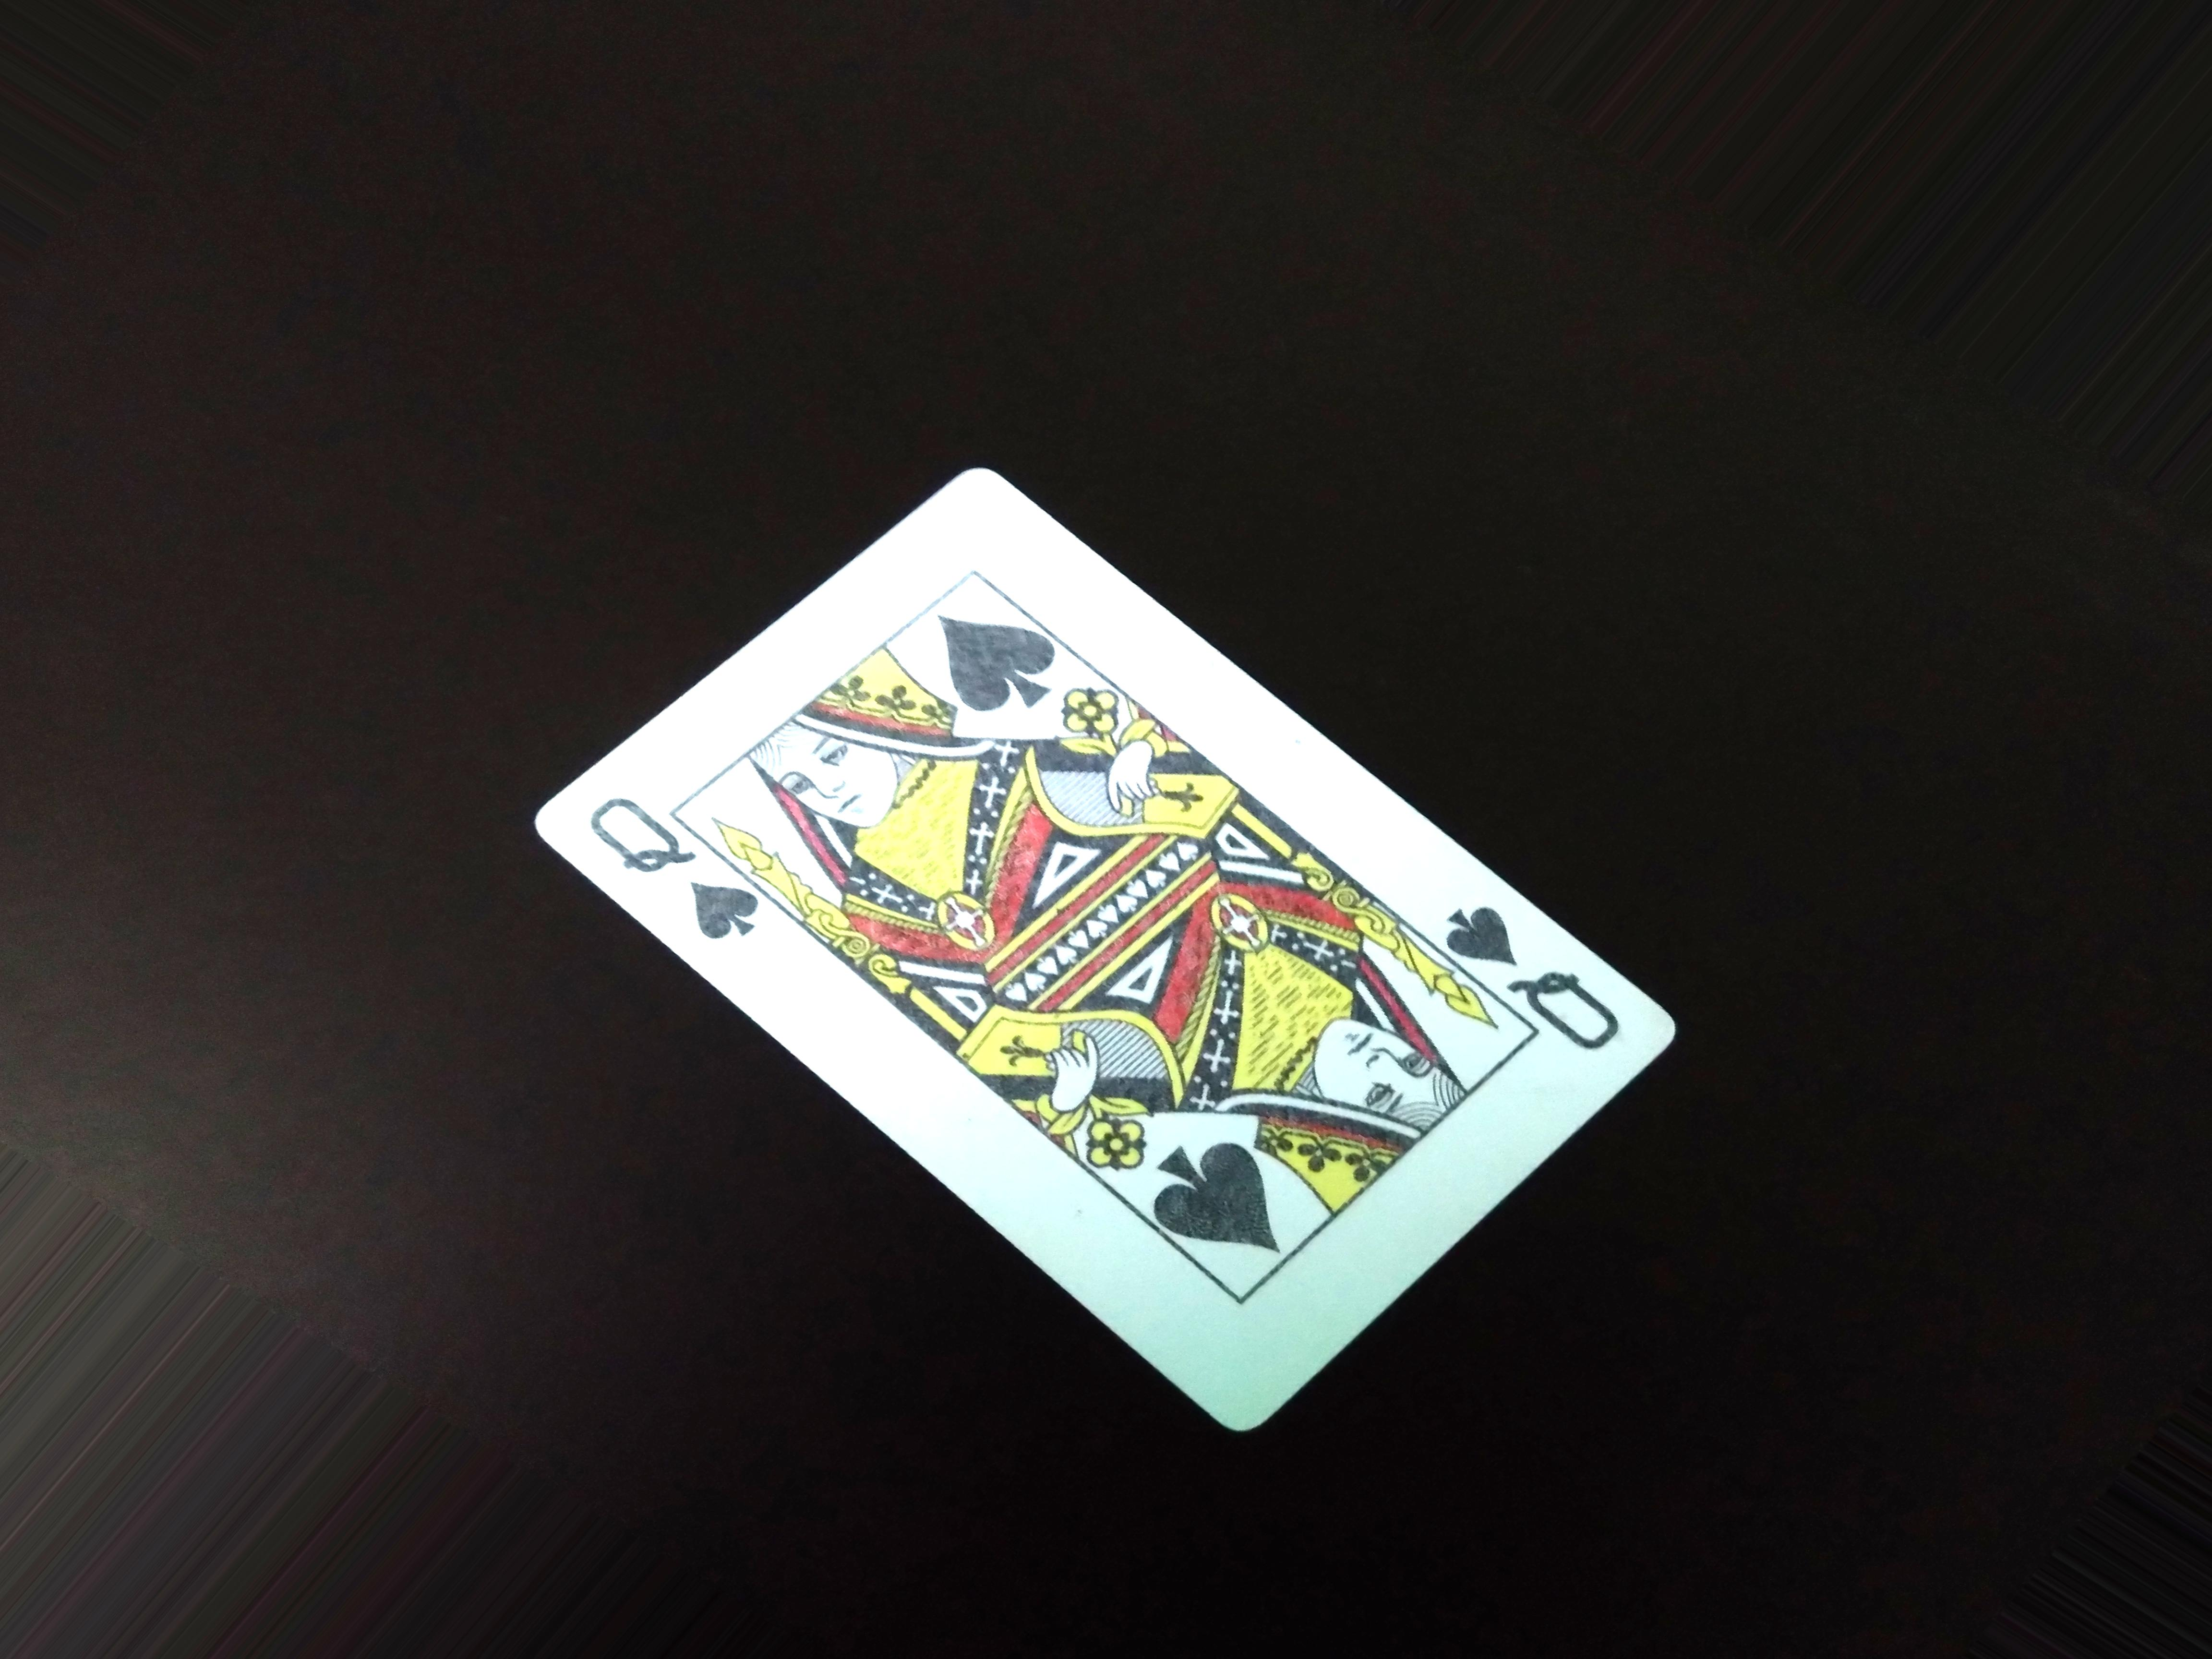QS: (578, 784, 777, 957)
